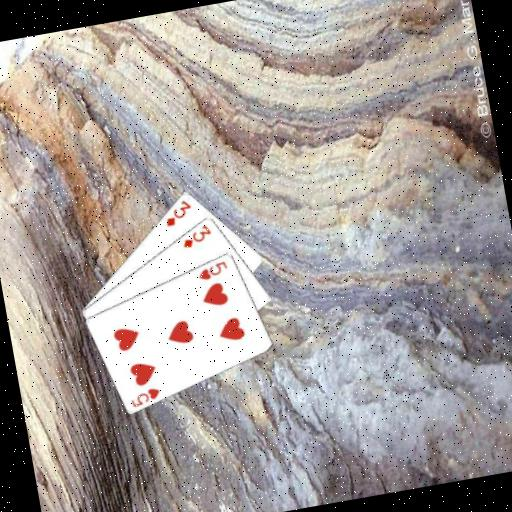3D: (159, 195, 195, 229), (177, 220, 215, 250)
5H: (126, 383, 163, 409), (193, 257, 230, 282)
